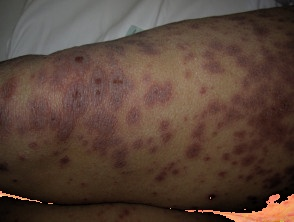SJS-TEN: (0, 6, 294, 222)
